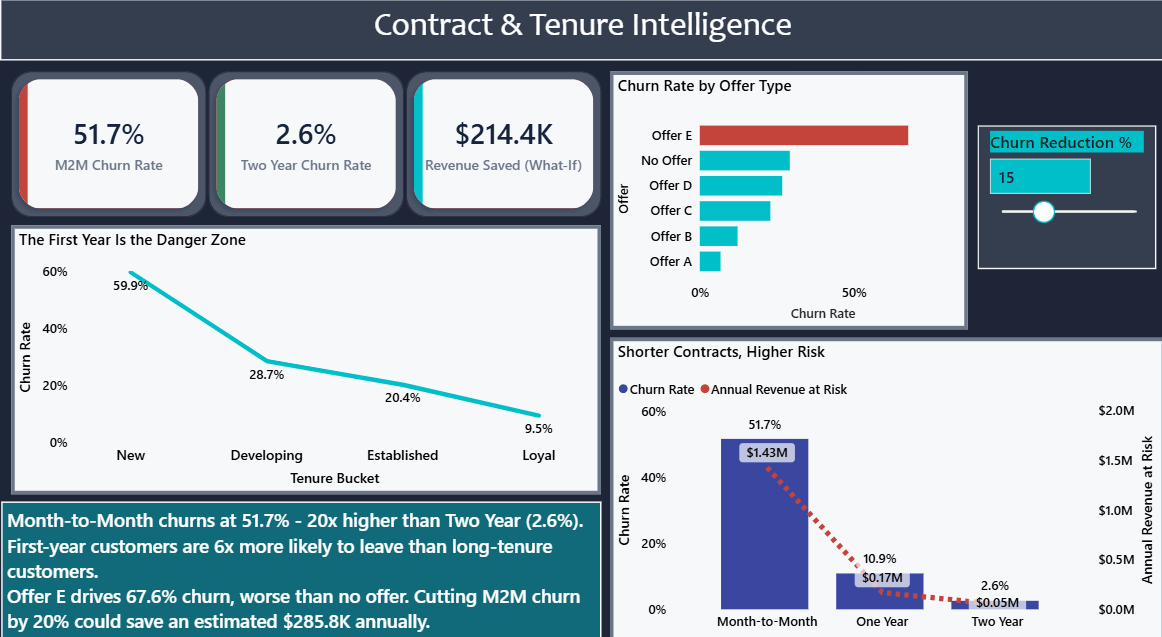

The page's visual inventory and layout, read from the dashboard file:
{"tool":"powerbi","page":{"name":"Contract & Tenure Intelligence","canvas":[1335,737],"ordinal":1},"visuals":[{"type":"textbox","box":[0,0,1335.3,70.1],"z":0},{"type":"slicer","fields":{"Values":["Churn Reduction %.Churn Reduction %"]},"box":[1119.2,144.5,204.7,164.6],"z":1000},{"type":"cardVisual","fields":{"Data":["telecom_customers.M2M Churn Rate"]},"box":[12.9,83,223.7,166],"z":2000},{"type":"cardVisual","fields":{"Data":["telecom_customers.Revenue Saved (What-If)"]},"box":[465.1,83,223.7,166],"z":3000},{"type":"cardVisual","fields":{"Data":["telecom_customers.Two Year Churn Rate"]},"box":[239,83,223.7,166],"z":4000},{"type":"lineClusteredColumnComboChart","title":"Shorter Contracts, Higher Risk","fields":{"Category":["telecom_customers.Contract"],"Y":["telecom_customers.Churn Rate"],"Y2":["telecom_customers.Annual Revenue at Risk"]},"box":[698.4,387.8,636.9,349.2],"z":5000},{"type":"lineChart","title":"The First Year Is the Danger Zone","fields":{"Category":["telecom_customers.Tenure_Bucket"],"Y":["telecom_customers.Churn Rate"]},"box":[12.9,259,675.5,307.7],"z":6000},{"type":"textbox","box":[1.4,575.3,687,161.7],"z":7000},{"type":"clusteredBarChart","title":"Churn Rate by Offer Type","fields":{"Y":["telecom_customers.Churn Rate"],"Category":["telecom_customers.Offer"]},"box":[698.4,83,409.3,294.8],"z":8000}]}

Visuals, with their boxes in screenshot pixels (x1, y1, x2, y2), scaled from the page's 1335x737 canvas onto the 1162x637 screenshot:
textbox: bbox=(0, 0, 1161, 61)
slicer - Churn Reduction %.Churn Reduction %: bbox=(974, 125, 1152, 267)
cardVisual - telecom_customers.M2M Churn Rate: bbox=(11, 72, 206, 215)
cardVisual - telecom_customers.Revenue Saved (What-If): bbox=(405, 72, 600, 215)
cardVisual - telecom_customers.Two Year Churn Rate: bbox=(208, 72, 403, 215)
"Shorter Contracts, Higher Risk" lineClusteredColumnComboChart: bbox=(608, 335, 1161, 636)
"The First Year Is the Danger Zone" lineChart: bbox=(11, 224, 599, 490)
textbox: bbox=(1, 497, 599, 636)
"Churn Rate by Offer Type" clusteredBarChart: bbox=(608, 72, 964, 327)
